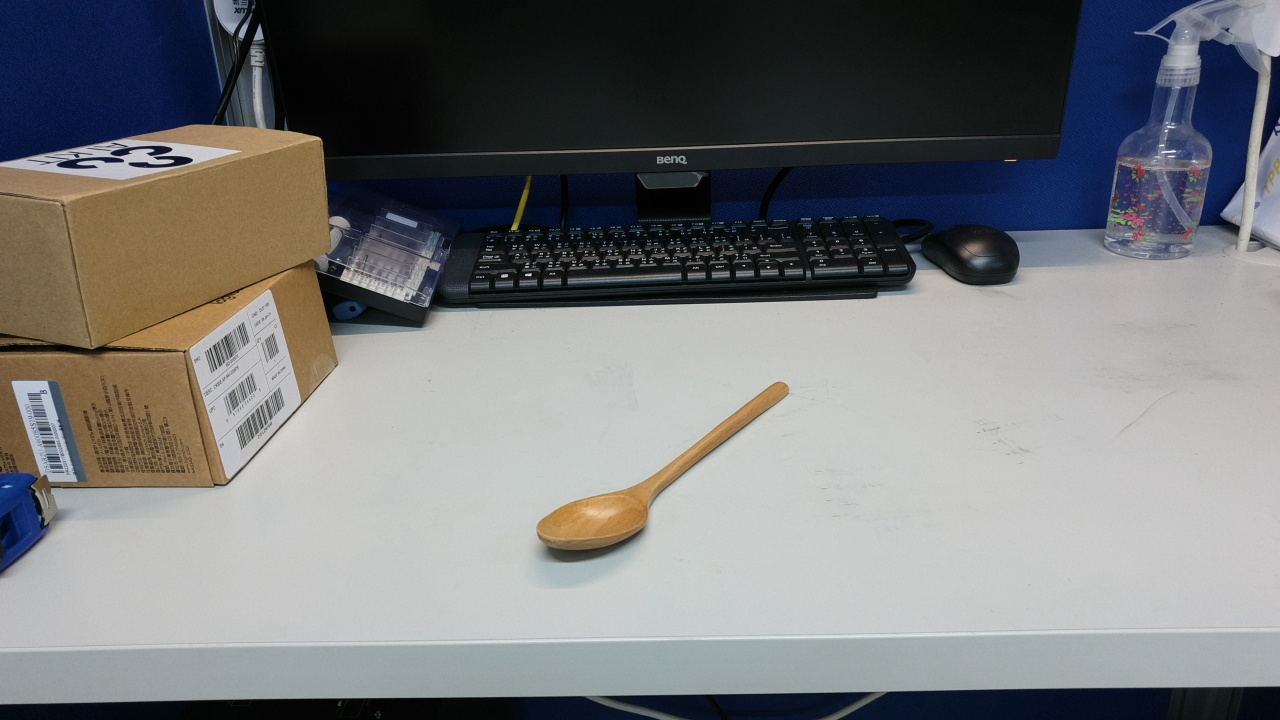circle: (840, 515, 1022, 661)
